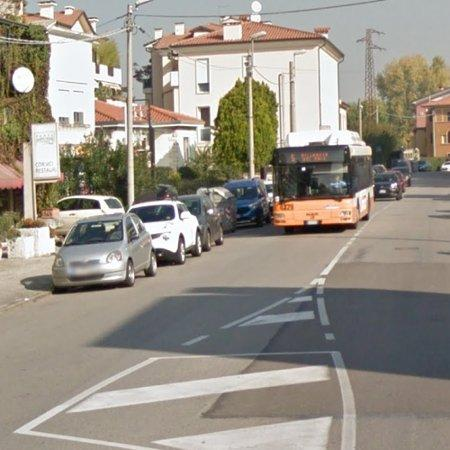buses: (268, 131, 375, 228)
